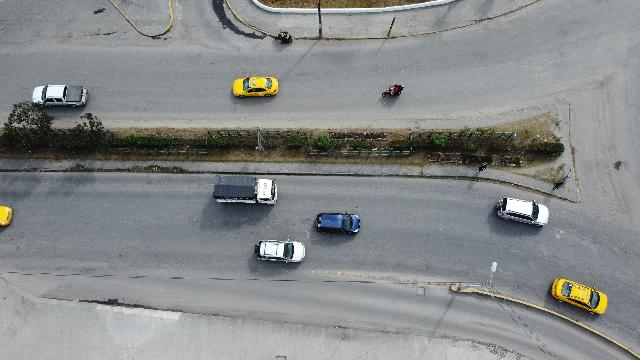Vehiculo: (552, 278, 608, 314), (213, 176, 277, 204), (497, 197, 549, 227), (32, 84, 88, 108), (254, 240, 306, 262), (232, 76, 278, 98), (316, 212, 360, 234), (0, 206, 12, 226)
